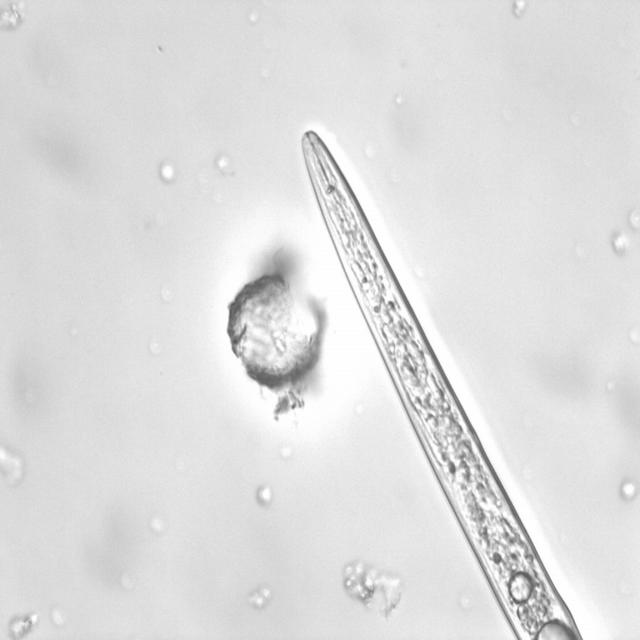Meloidogyne: (301, 114, 613, 640)
